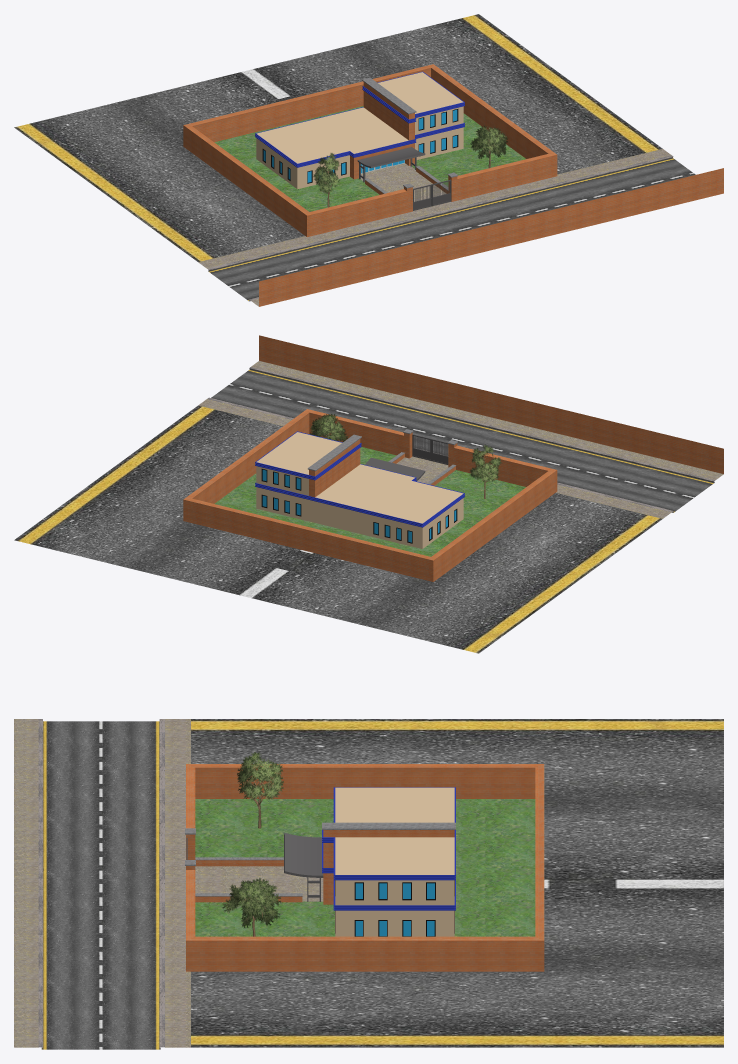
The model's file is ingresso-v1.glb.
3 views of the same model, one above another, from view 1: azimuth 30°, elevation 25°; view 2: azimuth 150°, elevation 25°; view 3: azimuth 270°, elevation 25° (orthographic). The views are drawn at different scales.
Visible parts, largest first — view 1: Pavimento, Edificio, Tree_2, Cancello; view 2: Pavimento, Edificio, Tree_2, Cancello; view 3: Pavimento, Edificio, Tree_2.
Boxes of the visible parts, x1,y1,x2,y2 form: Pavimento: [14, 14, 695, 306]; Edificio: [183, 64, 723, 306]; Tree_2: [313, 125, 507, 193]; Cancello: [413, 179, 451, 210]; Pavimento: [14, 361, 723, 653]; Edificio: [183, 335, 723, 581]; Tree_2: [309, 413, 501, 482]; Cancello: [412, 434, 448, 464]; Pavimento: [14, 719, 723, 1049]; Edificio: [185, 764, 544, 971]; Tree_2: [222, 752, 283, 928].
Size of the model in its own units: 130 by 15.27 by 119.
Materials: 10 (10 with a texture image).
